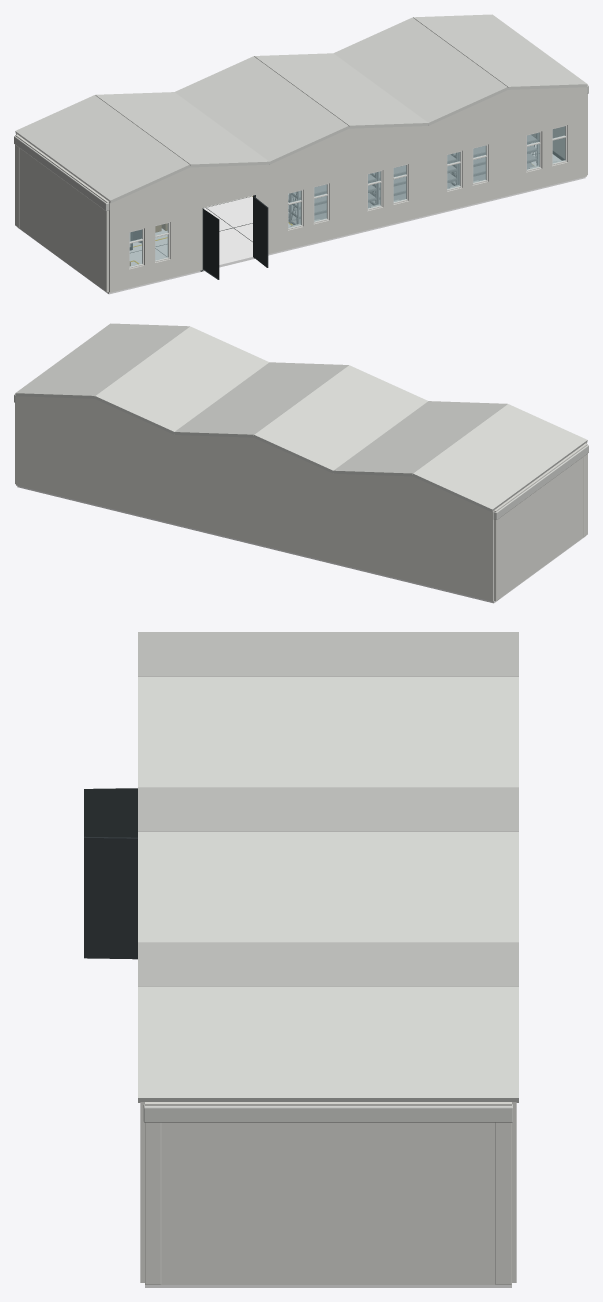
File: garage.glb
3 renders of one model, top to bottom at view 1: azimuth 30°, elevation 25°; view 2: azimuth 150°, elevation 25°; view 3: azimuth 270°, elevation 25°, orthographic. The views are drawn at different scales.
Parts seen in each view (by area): view 1: walls, roof, contents; view 2: walls, roof, contents; view 3: roof, walls, contents.
Part boxes in pixels (x1,y1,x2,y2): walls: (15,87,587,292); roof: (14,14,588,210); contents: (15,93,587,294); walls: (15,396,587,601); roof: (14,323,588,519); contents: (15,402,587,603); roof: (138,632,518,1122); walls: (84,788,516,1284); contents: (145,1122,511,1287).
Size of the model in its own units: 24.32 by 5.38 by 9.48.
